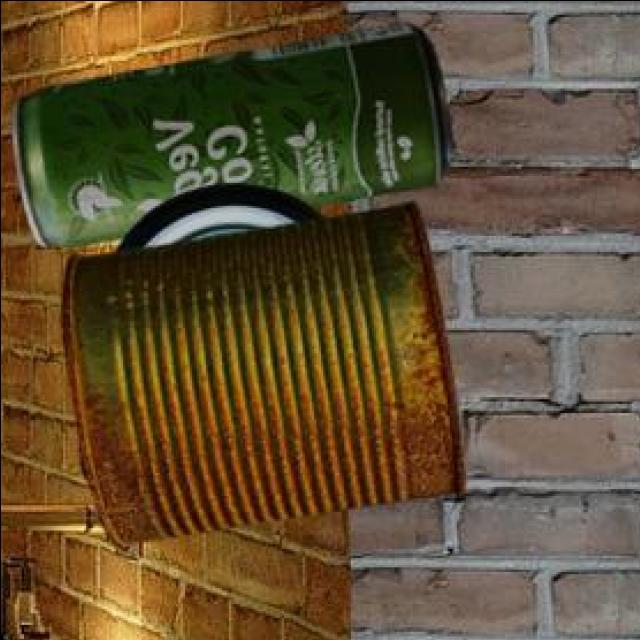logam: (59, 204, 462, 549), (8, 26, 448, 250), (112, 185, 323, 254)
